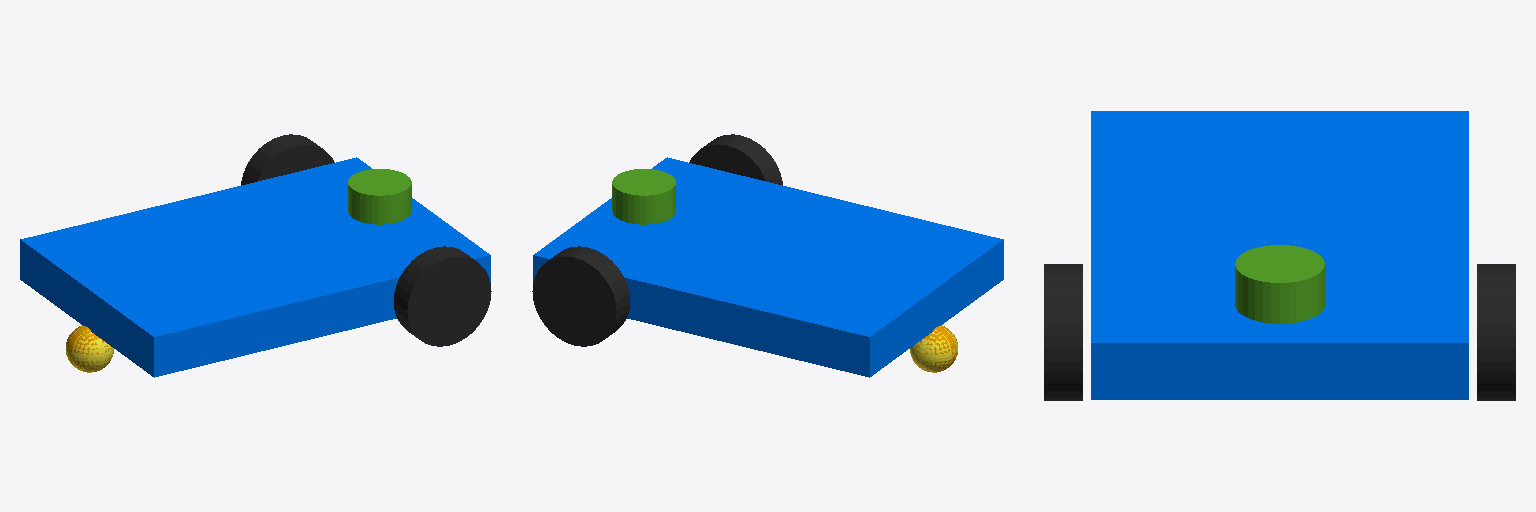
The robot description file, URDF, robot "dd_robot":
<?xml version='1.0'?>
<robot name="dd_robot">

  <!-- Base Link -->
  <link name="base_link">
    <visual>
      <origin xyz="0 0 0" rpy="0 0 0" />
      <geometry>
        <box size="0.6096 0.4191 0.07"/>
      </geometry>
      <material name="blue">
        <color rgba="0 0.5 1 1"/>
      </material>
    </visual>
    <!-- Base collision, mass and inertia -->
    <collision>
      <origin xyz="0 0 0" rpy="0 0 0" />
      <geometry>
        <box size="0.6096 0.4191 0.07"/>
      </geometry>
    </collision>
    <inertial>
      <mass value="5"/>
      <inertia ixx="0.13" ixy="0.0" ixz="0.0" iyy="0.21" iyz="0.0" izz="0.13"/>
    </inertial>

    <!-- Caster -->
    <visual name="caster">
      <origin xyz="-0.3 0.0 -0.07" rpy="0 0 0" />
      <geometry>
        <sphere radius="0.0381" />
      </geometry>
    </visual>
    <!-- Caster collision, mass and inertia -->
    <collision>
      <origin xyz="-0.3 0.0 -0.07" rpy="0 0 0" />
      <geometry>
        <sphere radius="0.00381" />
      </geometry>
    </collision>
    <inertial>
      <mass value="0.5"/>
      <inertia ixx="0.0001" ixy="0.0" ixz="0.0" iyy="0.0001" iyz="0.0" izz="0.0001"/>
    </inertial>

  </link>

  <!-- Right Wheel -->
  <link name="right_wheel">
    <visual>
      <origin xyz="0 0 0"  rpy="1.570795 0 0" />
      <geometry>
        <cylinder radius="0.0762" length="0.04318"/>
      </geometry>
      <material name="darkgray">
        <color rgba=".2 .2 .2 1"/>
      </material>
    </visual>
    <!-- Right Wheel collision, mass and inertia -->
    <collision>
      <origin xyz="0 0 0"  rpy="1.570795 0 0" />
      <geometry>
        <cylinder radius="0.0762" length="0.04318"/>
      </geometry>
    </collision>
    <inertial>
      <mass value="0.5"/>
      <inertia ixx="0.01" ixy="0.0" ixz="0.0" iyy="0.005" iyz="0.0" izz="0.005"/>
    </inertial>

  </link>

  <!-- Right Wheel joint -->
  <joint name="joint_right_wheel" type="continuous">
    <parent link="base_link"/>
    <child link="right_wheel"/>
    <origin xyz="0.2 0.24 0"  rpy="0 0 0" /> 
    <axis xyz="0 1 0" />
  </joint>

  <!-- Left Wheel -->
  <link name="left_wheel">
    <visual>
      <origin xyz="0 0 0"  rpy="1.570795 0 0" />
      <geometry>
        <cylinder radius="0.0762" length="0.04318"/>
      </geometry>
      <material name="darkgray">
        <color rgba=".2 .2 .2 1"/>
      </material>
    </visual>
    <!-- Left Wheel collision, mass and inertia -->
    <collision>
      <origin xyz="0 0 0" rpy="1.570795 0 0" />
      <geometry>
        <cylinder radius="0.0762" length="0.04318"/>
      </geometry>
    </collision>
    <inertial>
      <mass value="0.5"/>
      <inertia ixx="0.01" ixy="0.0" ixz="0.0" iyy="0.005" iyz="0.0" izz="0.005"/>
    </inertial>
  </link>

  <!-- Left Wheel joint -->
  <joint name="joint_left_wheel" type="continuous">
    <parent link="base_link"/>
    <child link="left_wheel"/>
    <origin xyz="0.2 -0.24 0"  rpy="0 0 0" /> 
    <axis xyz="0 1 0" />
  </joint>

  <link name="caster">
    <inertial>
            <mass value="1" />
            <inertia ixx="0.1316" ixy="0.0" ixz="0" iyy="0.1316" iyz="0" izz="0.01125" />
    </inertial>
    <visual>    
      <geometry>
        <sphere radius="0.0381" />
      </geometry>
      <material name="white" />
        <color rgba="1 1 1 1"/>
    </visual>
  </link>
  <joint name="caster_joint" type="continuous">
    <origin xyz="-0.3 0.0 -0.07" rpy="1.57 0.0 0.0"/>
    <parent link="base_link"/>
    <child link="caster"/>
  </joint>

  <link name="laser">
    <inertial>
            <mass value="1.0" />
            <inertia ixx="0.004375" ixy="0.0" ixz="0" iyy="0.004375" iyz="0" izz="0.005" />
    </inertial>
    <visual>	 
      <geometry>
        <cylinder radius="0.05" length="0.05"/>
      </geometry>
      <material name="grass">
        <color rgba="0.3607843137254902 0.6745098039215687 0.17647058823529413 1.0" />
      </material>
    </visual>
  </link>
  <joint name="laser_joint" type="fixed">
    <origin xyz="0.225 0 0.07" rpy="0 0 3.1416"/>
    <parent link="base_link"/>
    <child link="laser"/>
    <axis xyz="0.0 0.0 1.0"/>
  </joint>

</robot>

--- Render facts (derived) ---
The picture shows the robot from 3 angles, left to right: view 1: azimuth 30°, elevation 25°; view 2: azimuth 150°, elevation 25°; view 3: azimuth 270°, elevation 25°; orthographic projection.
Model dd_robot with 5 links and 4 joints (3 continuous, 1 fixed), rooted at base_link, posed all joints at 0.
Visible links, largest first — view 1: base_link, left_wheel, laser, right_wheel, caster; view 2: base_link, right_wheel, laser, left_wheel, caster; view 3: base_link, laser, right_wheel, left_wheel.
Boxes of the visible links, x1,y1,x2,y2 form: base_link: [20, 157, 490, 377]; left_wheel: [394, 246, 491, 346]; laser: [348, 169, 411, 224]; right_wheel: [241, 134, 334, 185]; caster: [66, 326, 113, 372]; base_link: [533, 157, 1003, 377]; right_wheel: [532, 246, 629, 346]; laser: [612, 169, 675, 224]; left_wheel: [689, 134, 782, 185]; caster: [910, 326, 957, 372]; base_link: [1091, 111, 1468, 399]; laser: [1235, 245, 1324, 323]; right_wheel: [1477, 264, 1515, 400]; left_wheel: [1044, 264, 1082, 400].
Bounding box of the posed robot: 0.6429 × 0.5232 × 0.2031 m (x, y, z).
Geometry: primitives only (box / cylinder / sphere), no mesh files.
